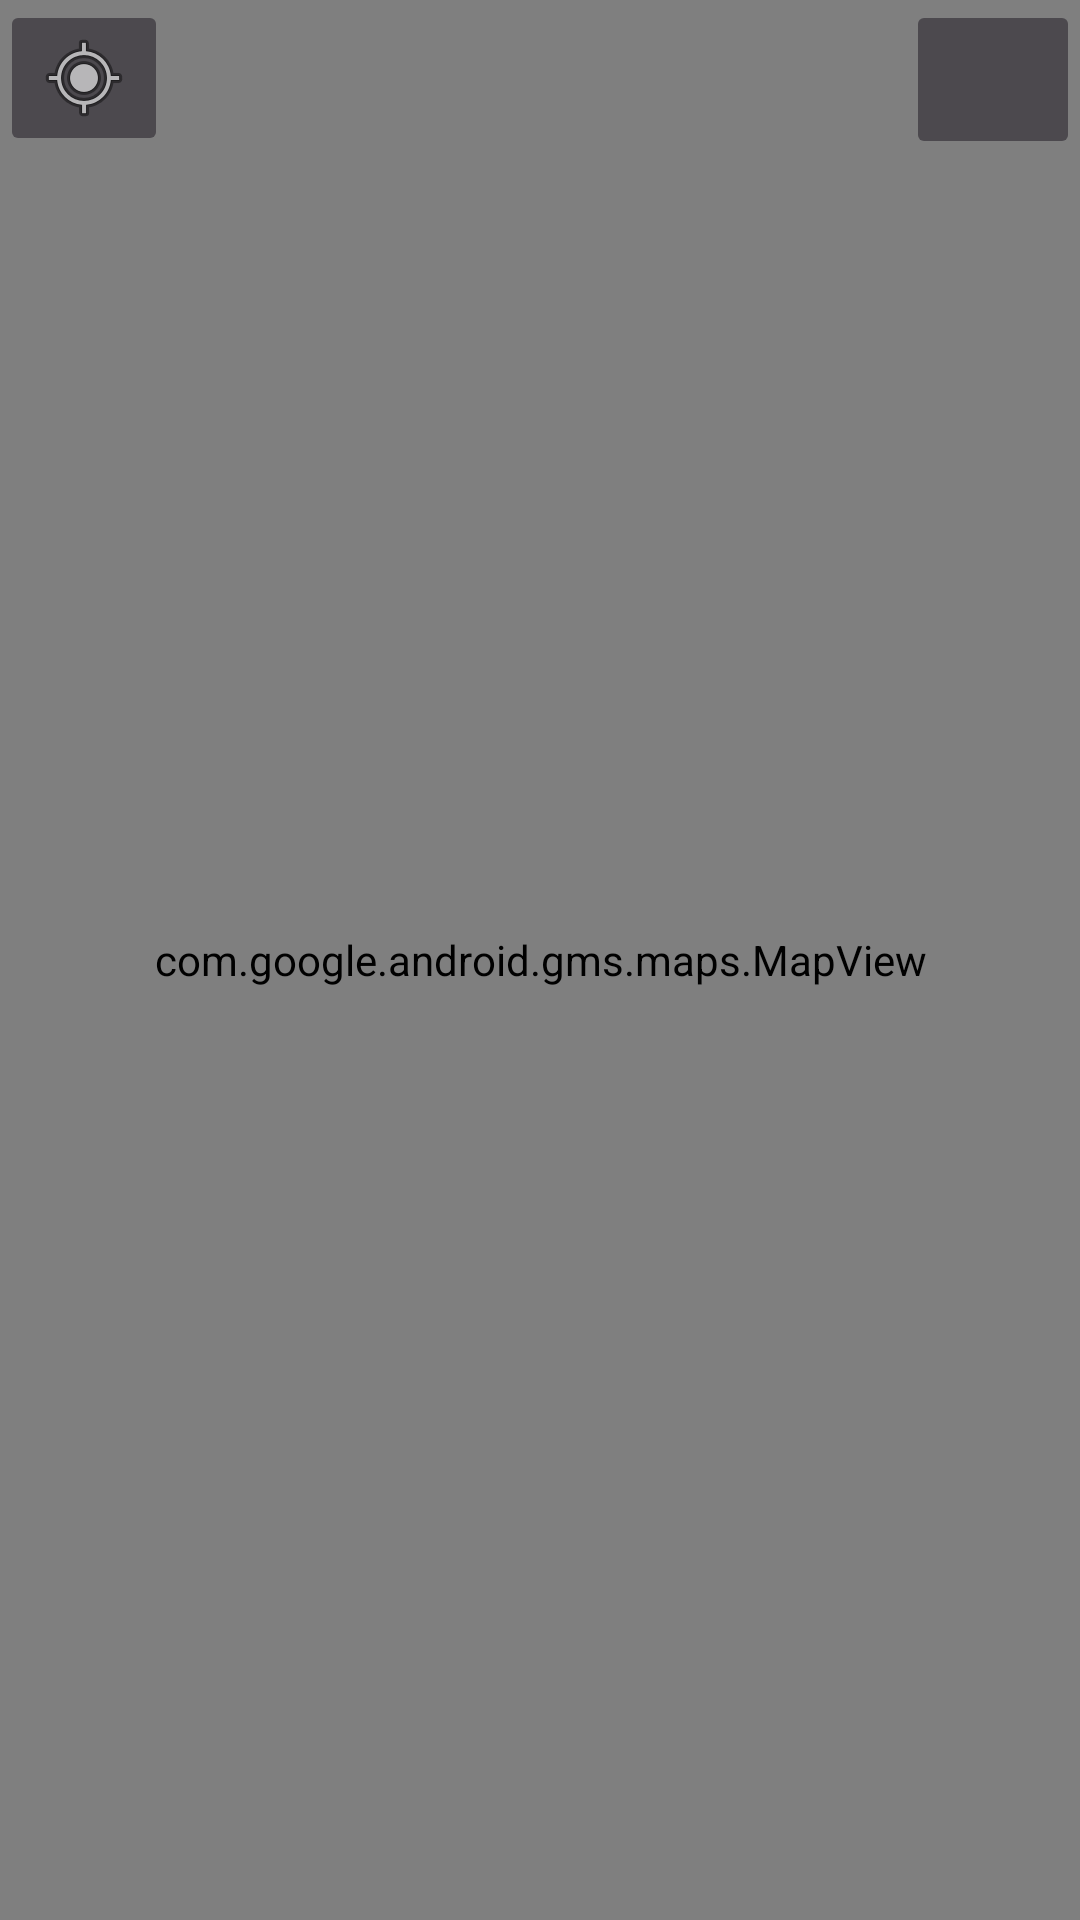

Icon click points for this 1080×1920 phone screenshot, format (x=x, y=y):
mylocation: (x=84, y=78)
